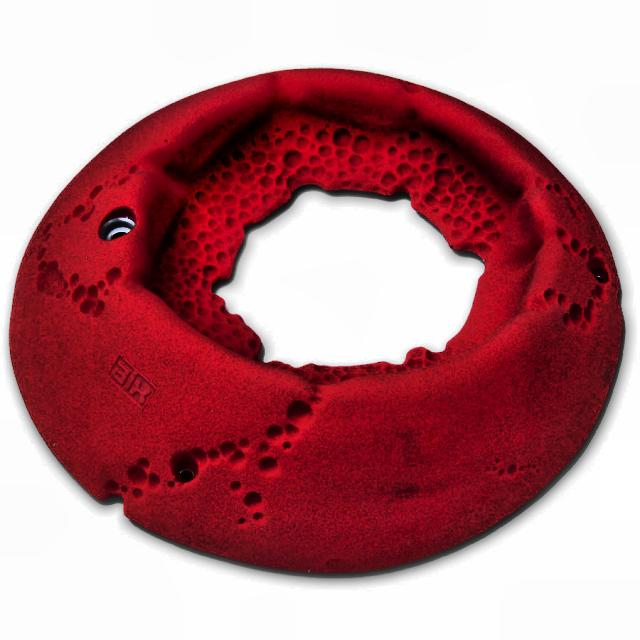Hold: (1, 61, 626, 584)
